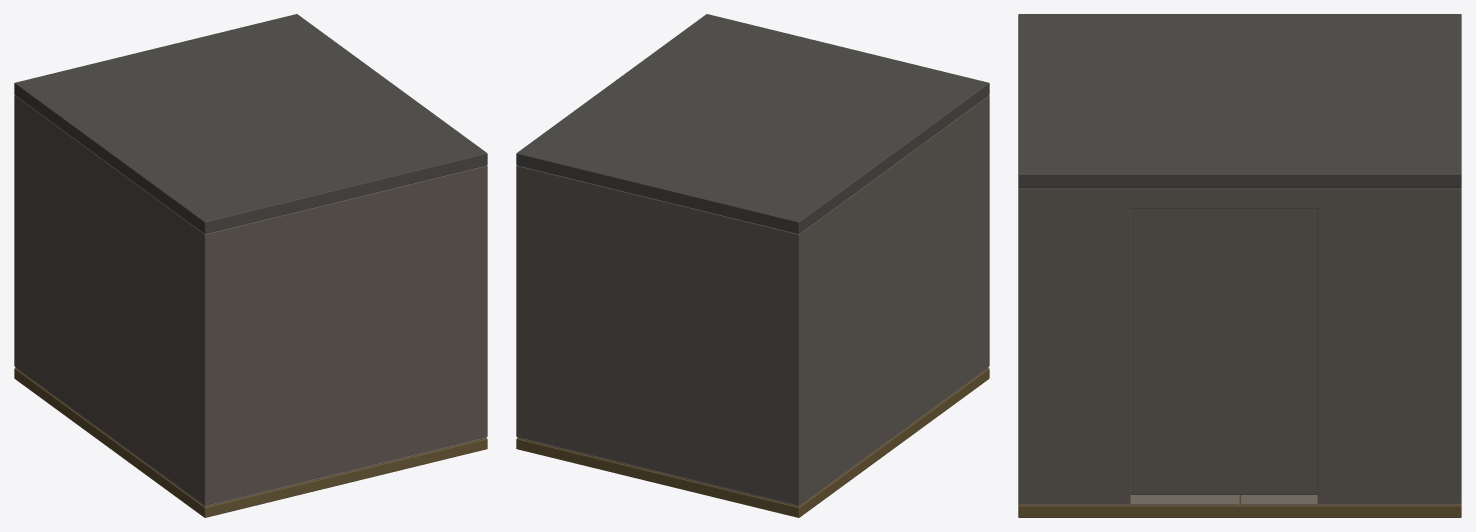
Rendered from gen-annex.glb.
The picture shows the model from 3 angles, left to right: view 1: azimuth 30°, elevation 25°; view 2: azimuth 150°, elevation 25°; view 3: azimuth 270°, elevation 25°; orthographic projection. The views are drawn at different scales.
Parts seen in each view (by area): view 1: THE ANNEX; view 2: THE ANNEX; view 3: THE ANNEX.
Boxes of the visible parts, box(x1,y1,x2,y2) form: THE ANNEX: box(14, 14, 487, 517); THE ANNEX: box(516, 14, 989, 517); THE ANNEX: box(1018, 14, 1461, 517).
Size of the model in its own units: 2.4 by 2.4 by 2.8.
